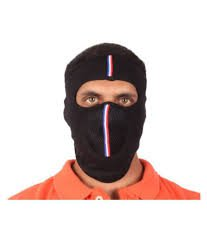mask: (60, 43, 150, 180)
